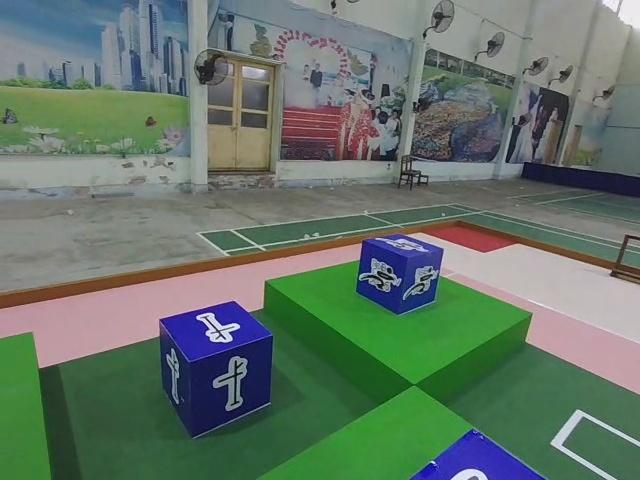R1 Blue: (356, 235, 447, 316)
R2 Real Blue: (159, 302, 273, 442)
